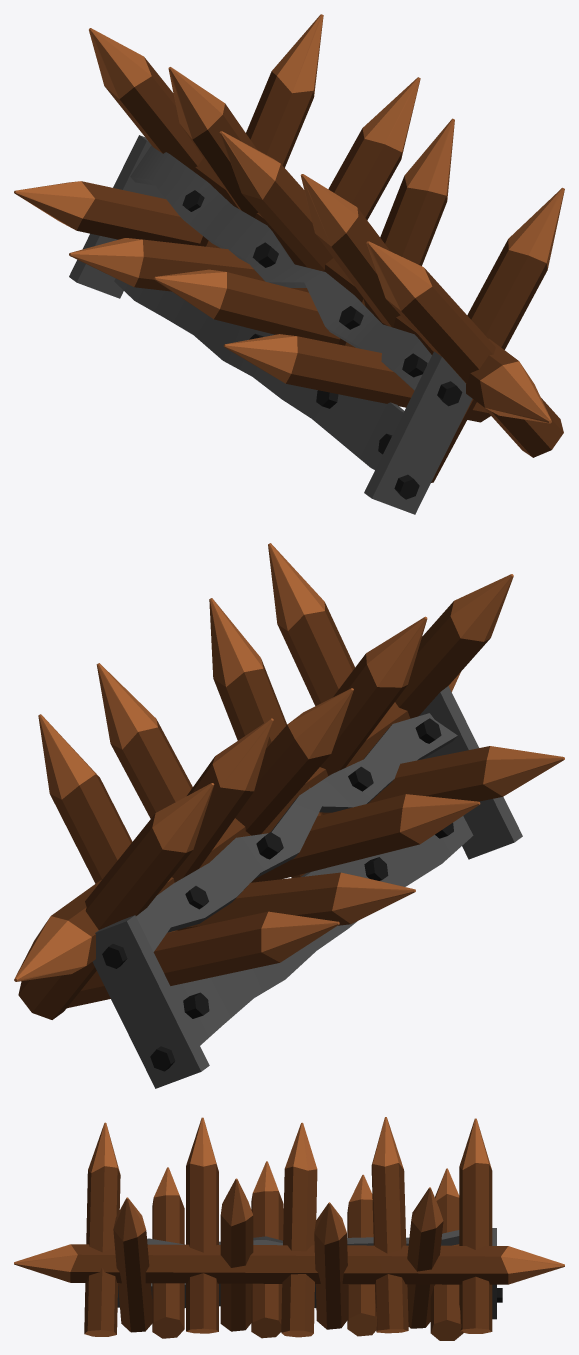
The model's file is Koly.fbx.
3 renders of one model, top to bottom at view 1: azimuth 30°, elevation 25°; view 2: azimuth 150°, elevation 25°; view 3: azimuth 270°, elevation 25°, orthographic. The views are drawn at different scales.
Visible parts, largest first — view 1: Box002, Cylinder005, Box001, Cylinder010, Box004, Cylinder009, Cylinder007, Cylinder014, Cylinder001, Cylinder003, Cylinder011, Cylinder013 (+6 smaller); view 2: Box002, Cylinder001, Box003, Cylinder007, Cylinder009, Box001, Cylinder011, Cylinder003, Cylinder014, Cylinder010, Cylinder008, Cylinder005 (+6 smaller); view 3: Cylinder006, Cylinder003, Cylinder002, Cylinder004, Cylinder001, Cylinder005, Cylinder014, Cylinder013, Cylinder010, Cylinder012, Cylinder009, Cylinder011 (+3 smaller).
Boxes of the visible parts, x1,y1,x2,y2 form: Box002: [130, 145, 431, 390]; Cylinder005: [366, 241, 563, 457]; Box001: [114, 278, 404, 469]; Cylinder010: [223, 334, 490, 422]; Box004: [364, 351, 472, 514]; Cylinder009: [153, 269, 340, 344]; Cylinder007: [14, 181, 202, 245]; Cylinder014: [431, 187, 564, 482]; Cylinder001: [89, 28, 203, 171]; Cylinder003: [219, 131, 332, 271]; Cylinder011: [199, 14, 323, 248]; Cylinder013: [338, 118, 454, 347]; Box002: [136, 713, 457, 951]; Cylinder001: [18, 783, 214, 1019]; Box003: [92, 915, 209, 1088]; Cylinder007: [67, 911, 339, 1008]; Cylinder009: [251, 794, 480, 882]; Box001: [170, 816, 473, 1045]; Cylinder011: [38, 714, 177, 932]; Cylinder003: [235, 688, 353, 835]; Cylinder014: [268, 543, 354, 705]; Cylinder010: [322, 746, 564, 814]; Cylinder008: [177, 872, 415, 930]; Cylinder005: [395, 574, 513, 718]; Cylinder006: [14, 1244, 564, 1284]; Cylinder003: [281, 1122, 317, 1337]; Cylinder002: [371, 1117, 408, 1333]; Cylinder004: [186, 1117, 218, 1333]; Cylinder001: [459, 1118, 492, 1333]; Cylinder005: [84, 1122, 120, 1336]; Cylinder014: [113, 1197, 152, 1332]; Cylinder013: [220, 1178, 253, 1331]; Cylinder010: [152, 1167, 184, 1338]; Cylinder012: [314, 1202, 348, 1329]; Cylinder009: [251, 1161, 283, 1338]; Cylinder011: [407, 1187, 443, 1328].
Bounding box in the file's own units: 0.978 × 0.8431 × 2.17.
